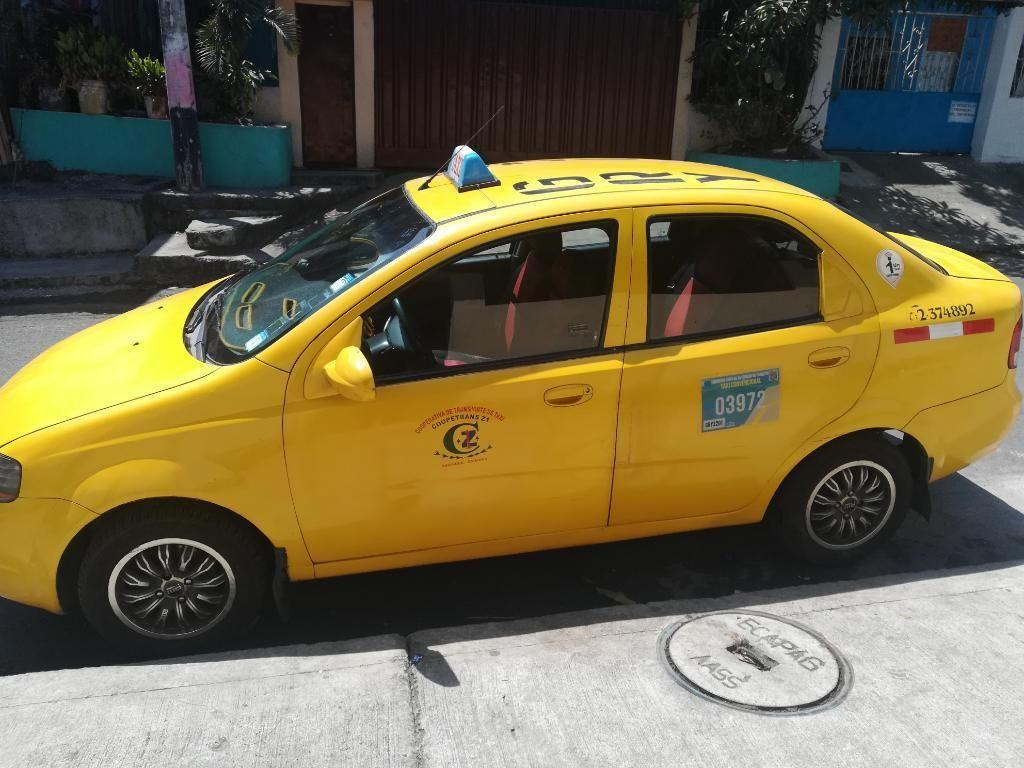taxi: (4, 127, 1024, 639)
